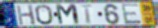6: (103, 3, 122, 26)
E: (120, 3, 143, 26)
H: (15, 4, 38, 27)
M: (55, 3, 82, 26)
O: (35, 4, 55, 26)
T: (79, 4, 95, 25)
